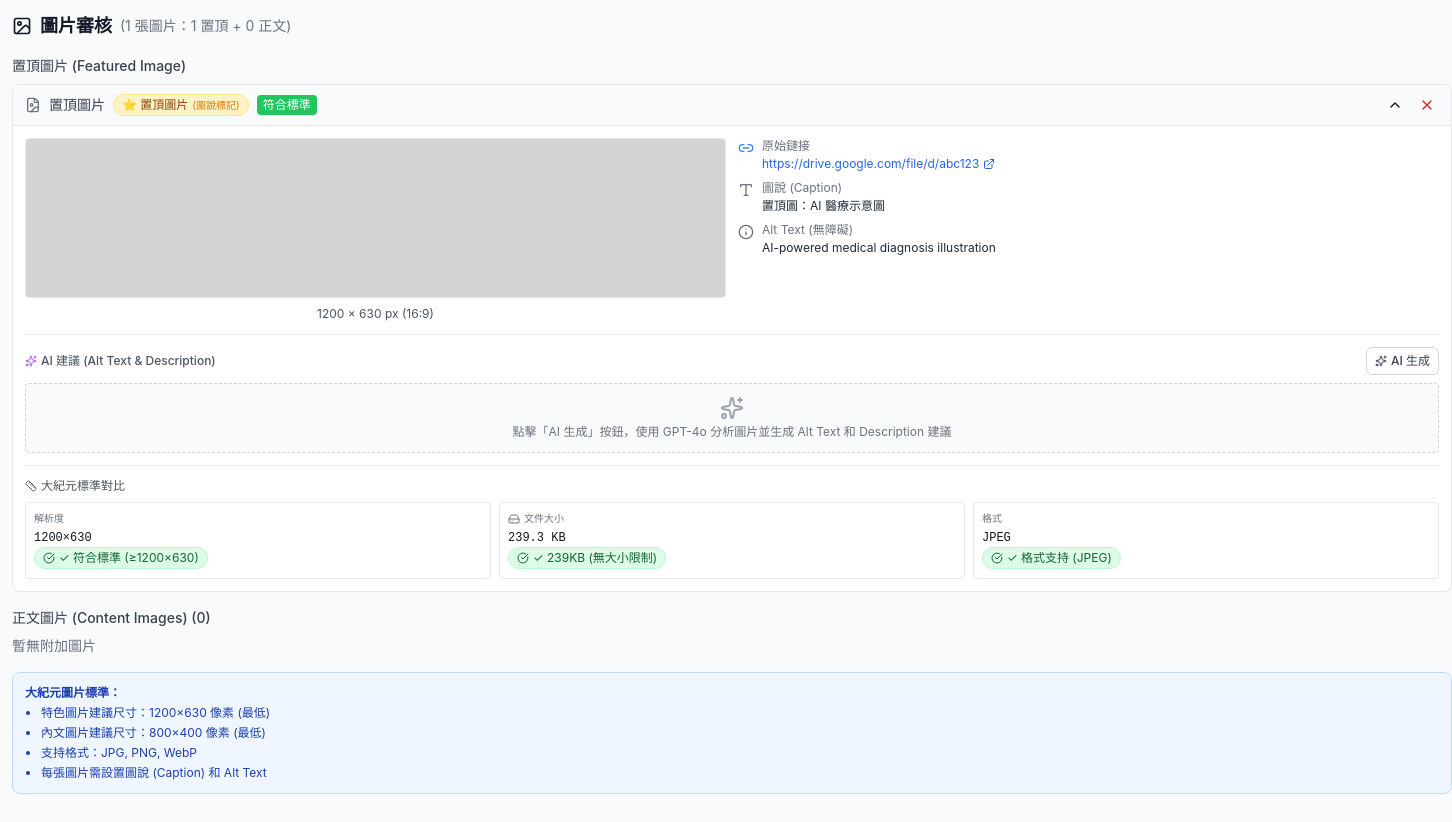
ImageReviewSection › ImageInfoCard › should toggle expand/collapse
The image size is (1452, 822).
Click the 1st button: (1395, 105) left=1383, top=93, right=1407, bottom=117
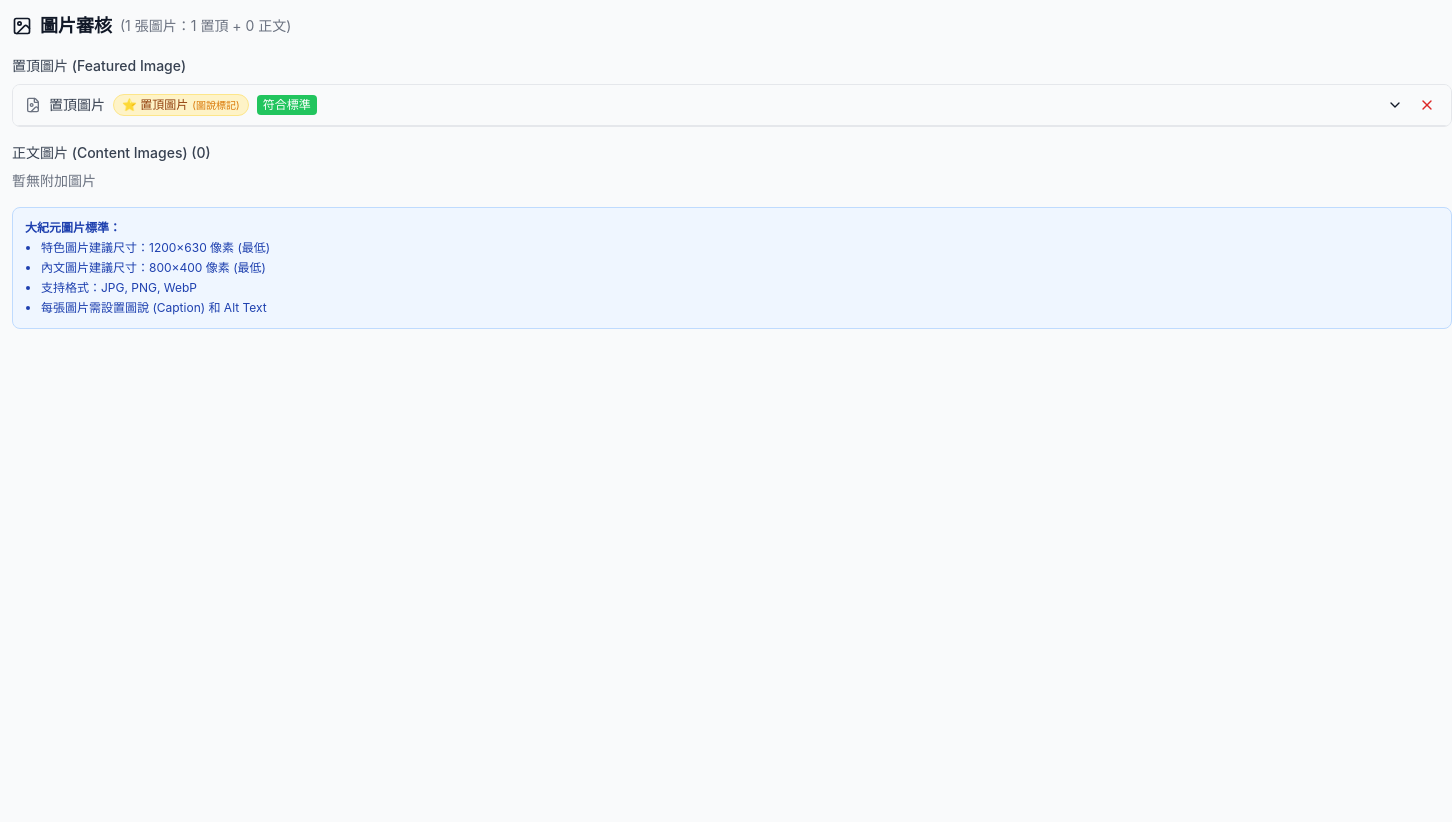
Check: the text "1200 × 630 px" is gone
